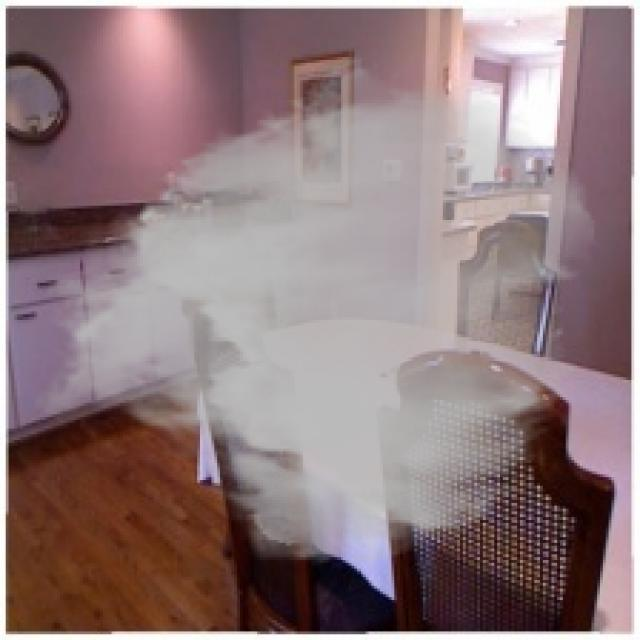Smoke: (31, 54, 600, 569)
